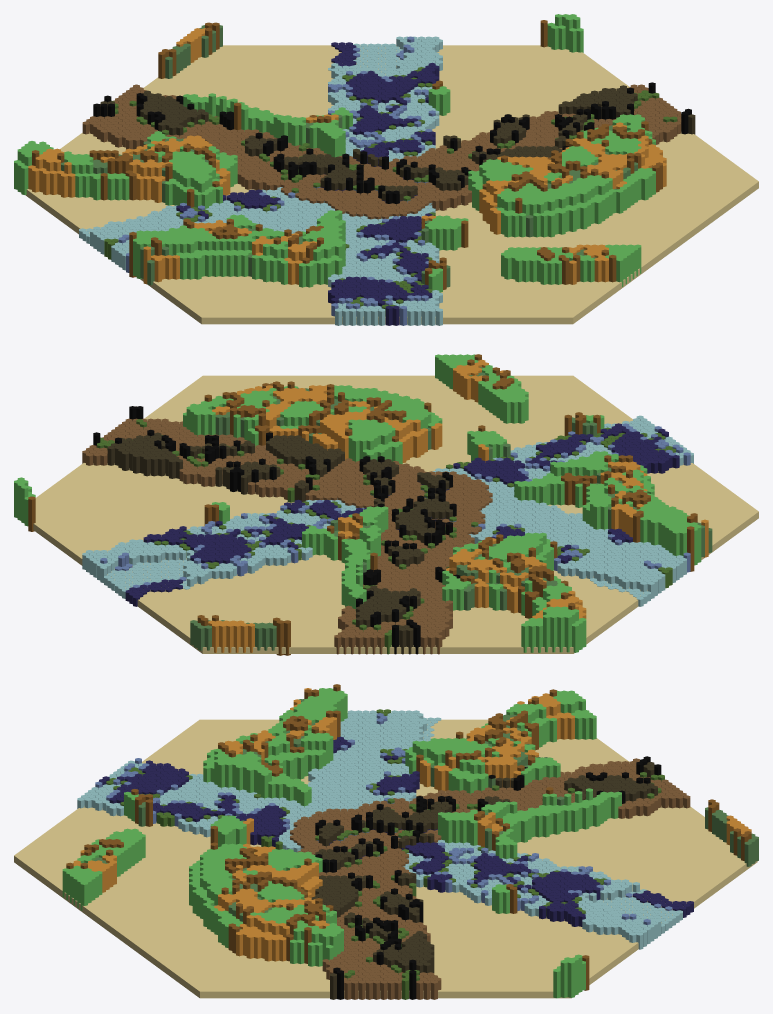
File: 0055_tile_1001012.fbx
3 views of the same model, one above another, from view 1: azimuth 30°, elevation 25°; view 2: azimuth 150°, elevation 25°; view 3: azimuth 270°, elevation 25° (orthographic).
Parts seen in each view (by area): view 1: Plane; view 2: Plane; view 3: Plane.
Part boxes in pixels (x1=…): Plane: x1=14, y1=14, x2=758, y2=325; Plane: x1=14, y1=354, x2=758, y2=655; Plane: x1=14, y1=684, x2=758, y2=999.
Bounding box in the file's own units: 1008 × 72.23 × 1152.
